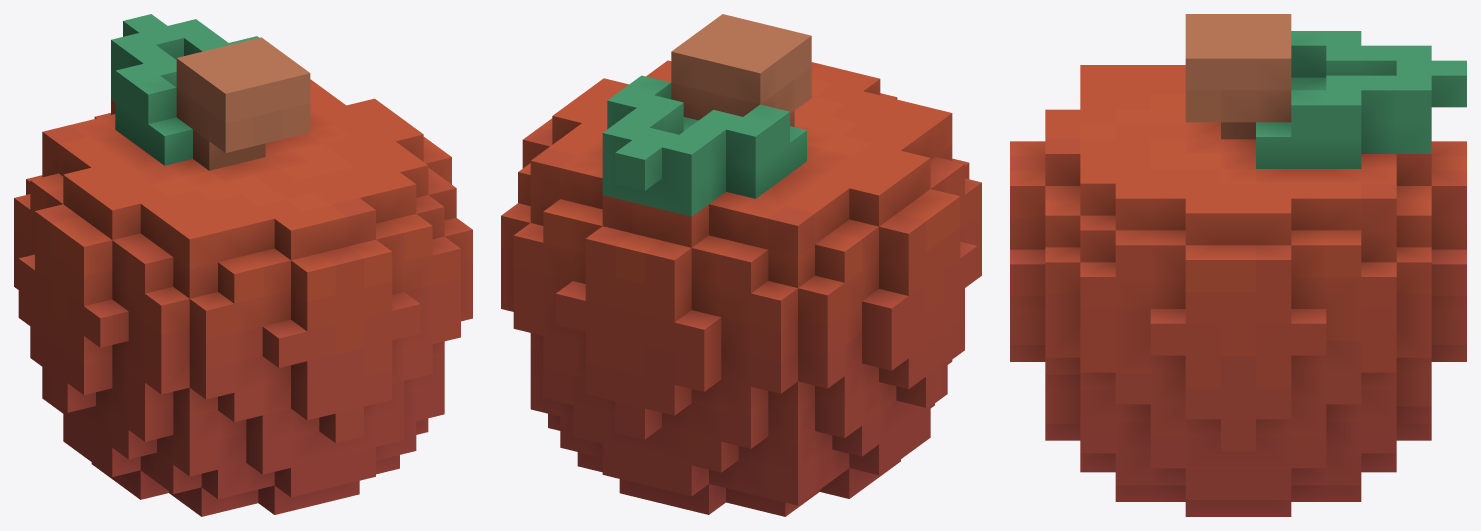
The model's file is apple.glb.
3 renders of one model, left to right at view 1: azimuth 30°, elevation 25°; view 2: azimuth 150°, elevation 25°; view 3: azimuth 270°, elevation 25°, orthographic. The views are drawn at different scales.
Visible parts, largest first — view 1: voxels; view 2: voxels; view 3: voxels.
Part boxes in pixels (<box>): voxels: <box>14,14,472,516</box>; voxels: <box>501,14,981,516</box>; voxels: <box>1010,14,1466,516</box>.
Size of the model in its own units: 0.2066 by 0.2066 by 0.2066.
